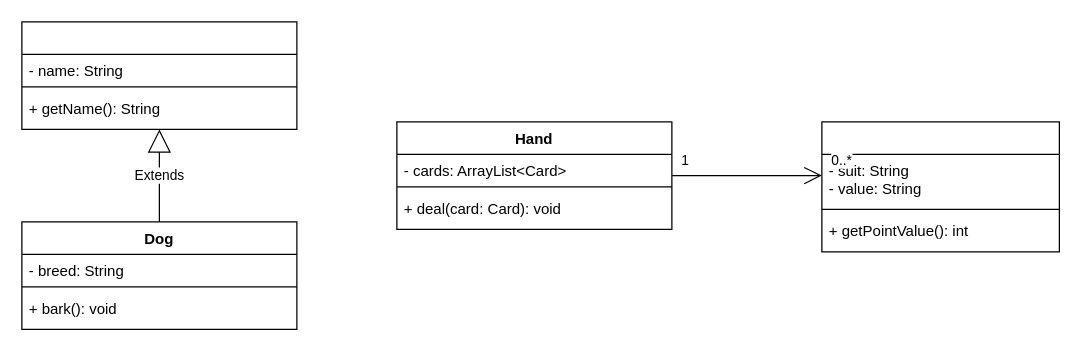
This 1081x351 diagram has some shape labels left out. The box of each missing label's shape, as (x1, y1, x2, y2) in pixels:
Animal: (21, 21, 297, 129)
Card: (821, 121, 1059, 252)
